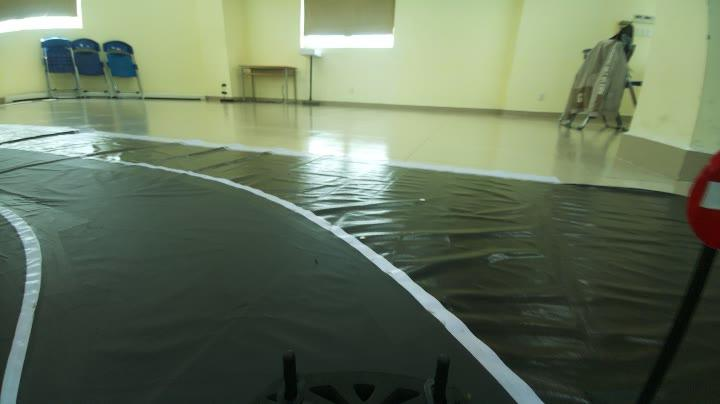no_entry: (689, 151, 720, 247)
